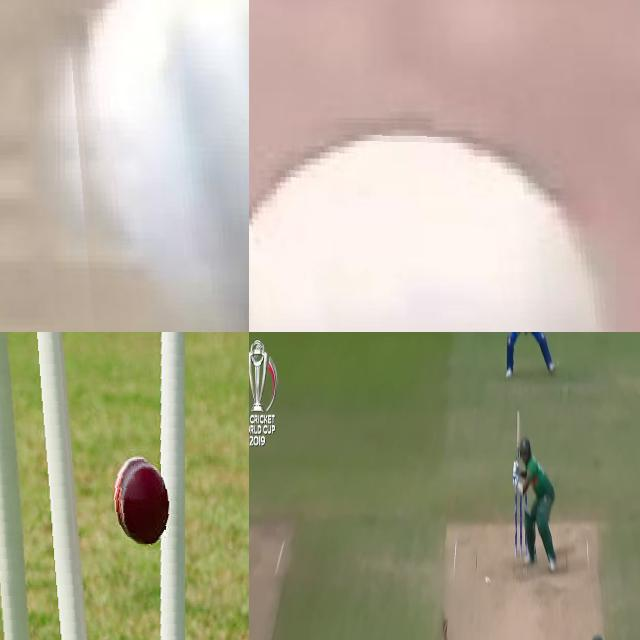Cricket ball: (249, 116, 615, 332), (56, 0, 249, 332), (485, 576, 491, 586)
Stumps: (0, 332, 185, 640), (515, 492, 528, 559)
